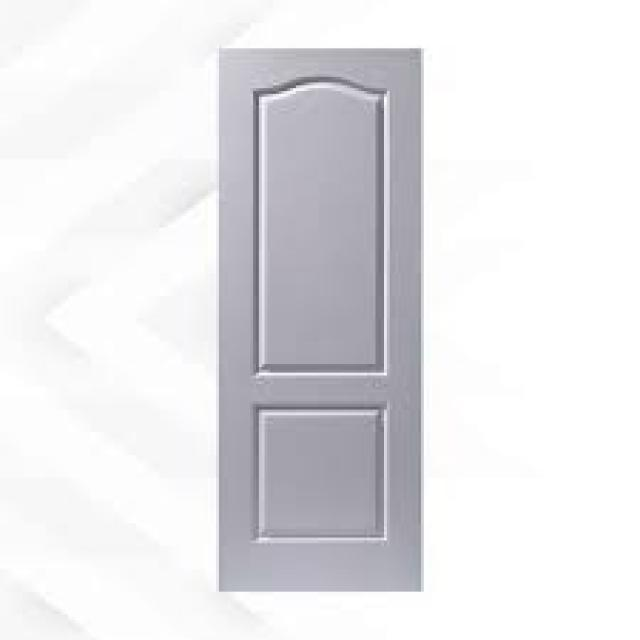door: (216, 47, 424, 593)
